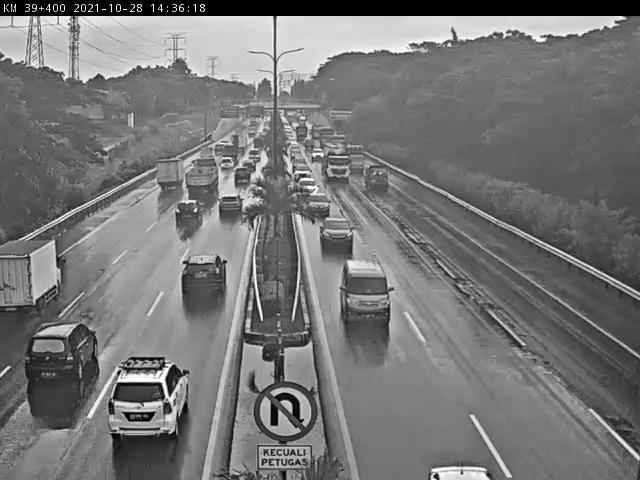big truck: (185, 159, 223, 195), (323, 149, 352, 182)
car: (107, 357, 193, 442), (25, 320, 100, 388), (337, 258, 392, 324), (177, 252, 229, 299), (318, 216, 355, 248), (172, 198, 203, 225), (305, 190, 333, 218), (216, 192, 243, 217), (296, 177, 319, 197), (233, 166, 253, 185), (217, 156, 233, 172)
small truck: (0, 235, 64, 316), (154, 157, 185, 193), (361, 162, 391, 190)
